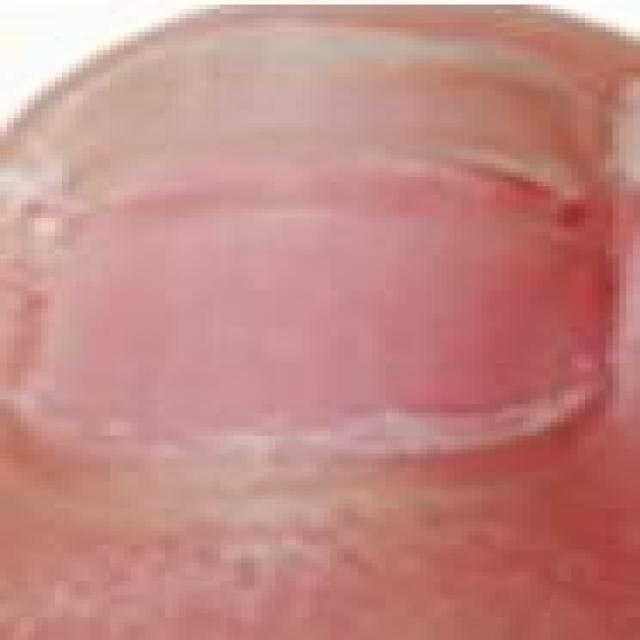Nail: (17, 21, 626, 442)
